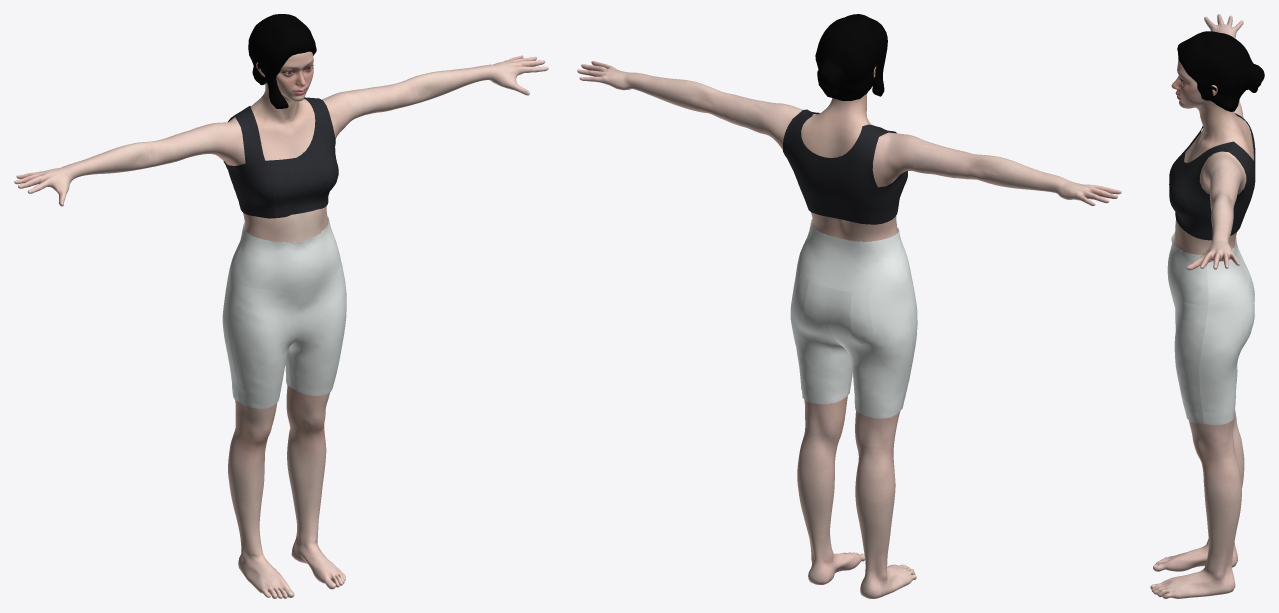
The model's file is Dynamic.obj.
3 renders of one model, left to right at view 1: azimuth 30°, elevation 25°; view 2: azimuth 150°, elevation 25°; view 3: azimuth 270°, elevation 25°, orthographic. The views are drawn at different scales.
Size of the model in its own units: 1746 by 1761 by 334.
